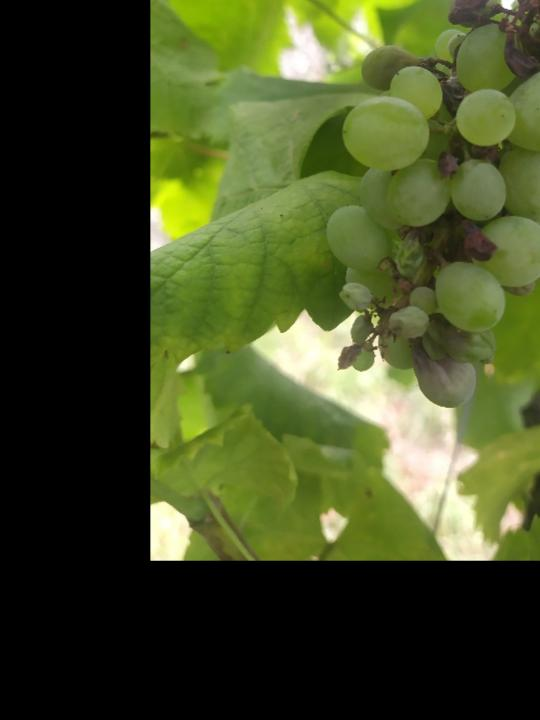grape: (321, 0, 540, 411)
